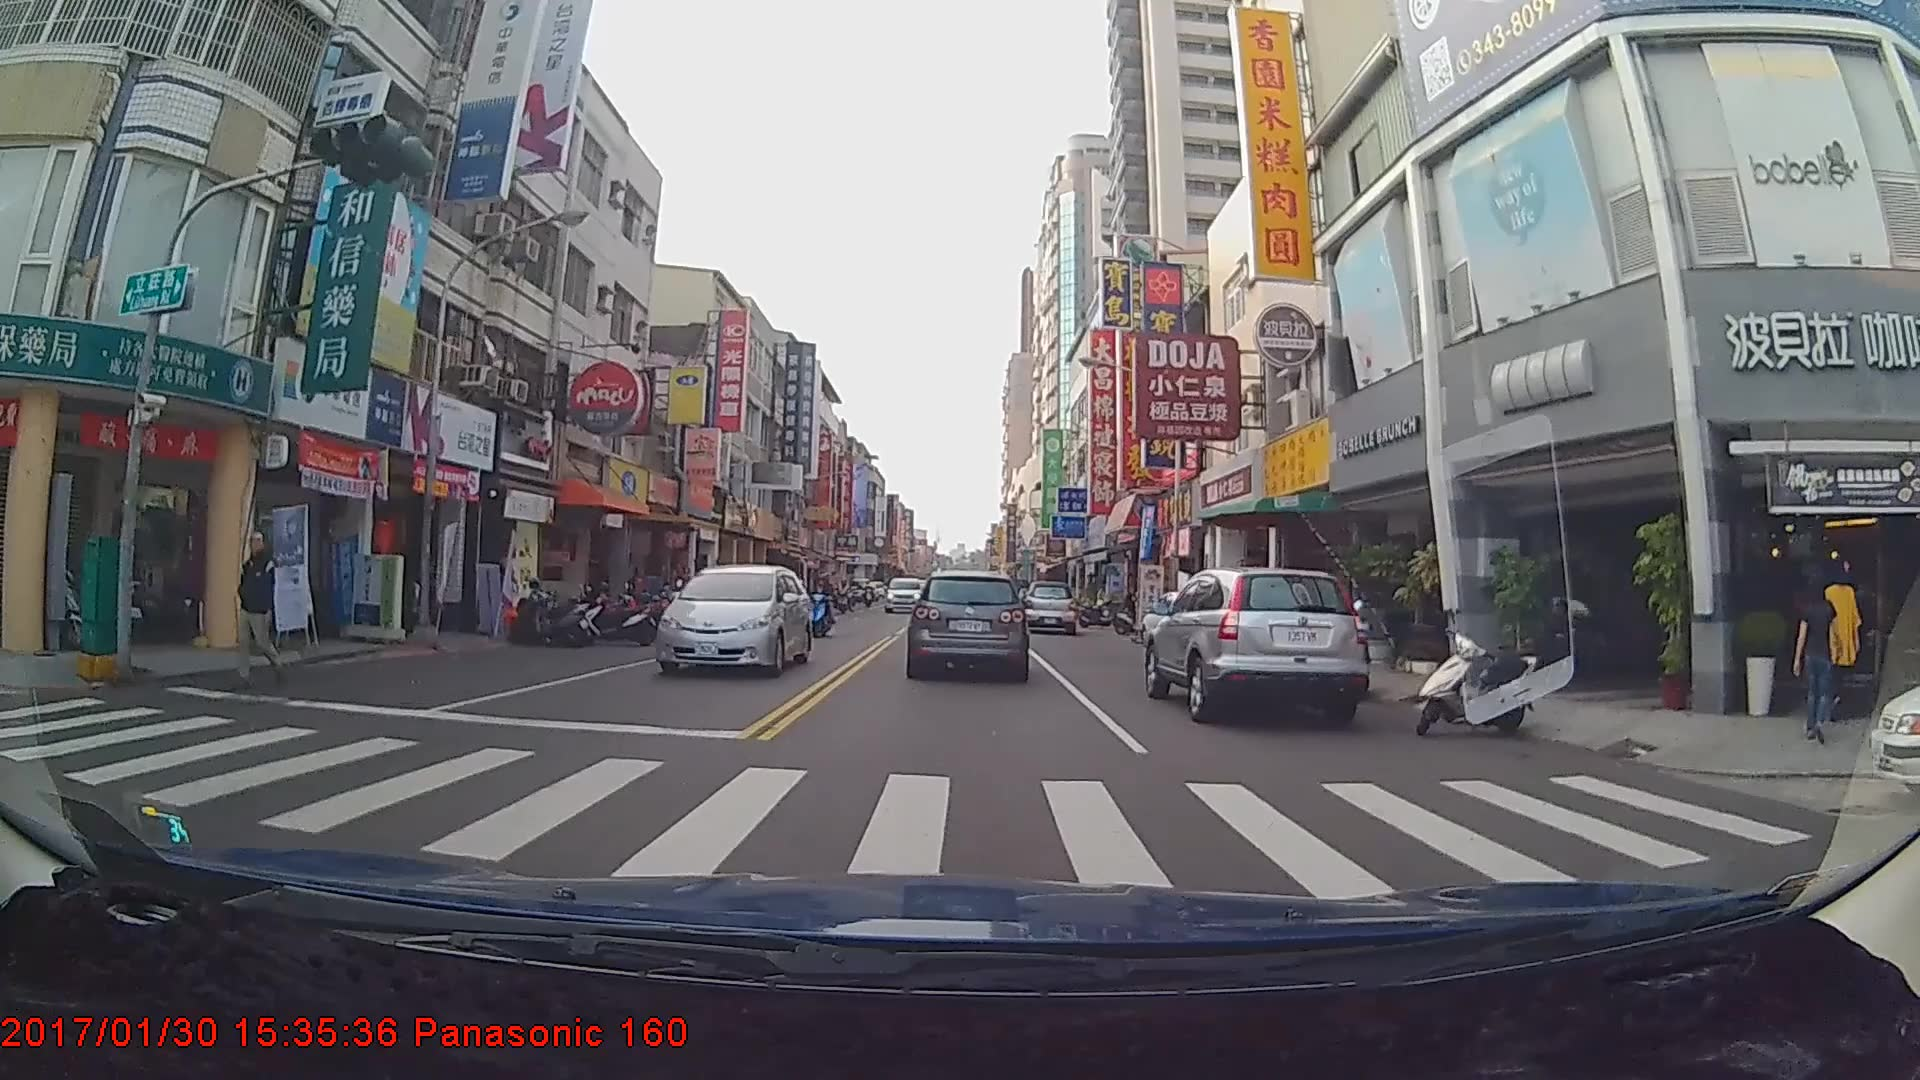pedestrian: (1792, 571, 1843, 750), (230, 532, 288, 690), (1812, 561, 1866, 720)
vehicle: (1142, 565, 1368, 727), (655, 562, 813, 676), (909, 568, 1027, 676), (1019, 580, 1075, 633), (882, 575, 925, 614)
